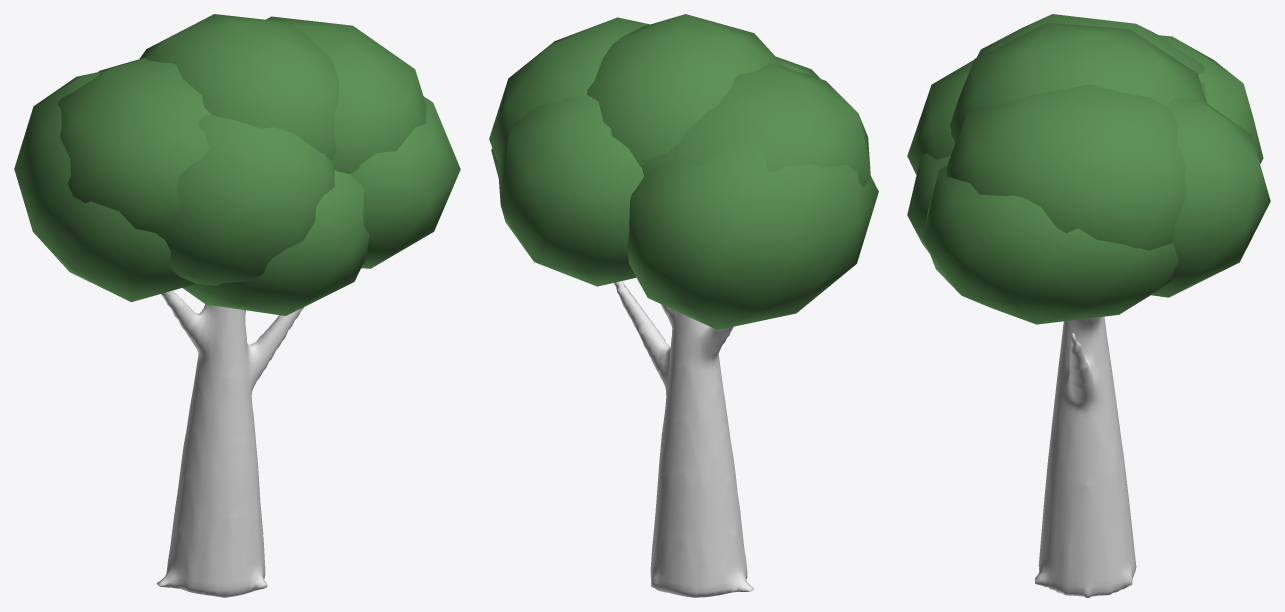
Rendered from NaturalTree_10_Asymmetric.fbx.
The picture shows the model from 3 angles, left to right: view 1: azimuth 30°, elevation 25°; view 2: azimuth 150°, elevation 25°; view 3: azimuth 270°, elevation 25°; orthographic projection.
Parts seen in each view (by area): view 1: Trunk.009, Foliage_03.009, Foliage_01.009, Foliage_00.009, Foliage_05.009, Foliage_02.009, Foliage_07.008, Foliage_06.009; view 2: Foliage_05.009, Trunk.009, Foliage_04.009, Foliage_00.009, Foliage_01.009, Foliage_02.009; view 3: Foliage_02.009, Foliage_06.009, Trunk.009, Foliage_00.009, Foliage_04.009, Foliage_03.009, Foliage_05.009, Foliage_01.009, Foliage_07.008.
Boxes of the visible parts, bbox=[...] form: Trunk.009: bbox=[156, 290, 303, 597]; Foliage_03.009: bbox=[155, 114, 334, 285]; Foliage_01.009: bbox=[58, 58, 210, 232]; Foliage_00.009: bbox=[139, 14, 339, 160]; Foliage_05.009: bbox=[14, 72, 194, 302]; Foliage_02.009: bbox=[266, 16, 426, 173]; Foliage_07.008: bbox=[182, 170, 369, 315]; Foliage_06.009: bbox=[350, 96, 460, 268]; Foliage_05.009: bbox=[627, 139, 878, 329]; Trunk.009: bbox=[613, 281, 753, 597]; Foliage_04.009: bbox=[497, 95, 643, 286]; Foliage_00.009: bbox=[587, 14, 782, 166]; Foliage_01.009: bbox=[641, 63, 870, 187]; Foliage_02.009: bbox=[489, 17, 649, 160]; Foliage_02.009: bbox=[946, 84, 1186, 250]; Foliage_06.009: bbox=[923, 165, 1178, 324]; Trunk.009: bbox=[1035, 316, 1136, 597]; Foliage_00.009: bbox=[950, 23, 1205, 142]; Foliage_04.009: bbox=[1151, 98, 1270, 297]; Foliage_03.009: bbox=[907, 43, 1004, 174]; Foliage_05.009: bbox=[1157, 35, 1263, 163]; Foliage_01.009: bbox=[977, 14, 1207, 103]; Foliage_07.008: bbox=[907, 153, 950, 253].
Size of the model in its own units: 2.14 by 3 by 1.78.
